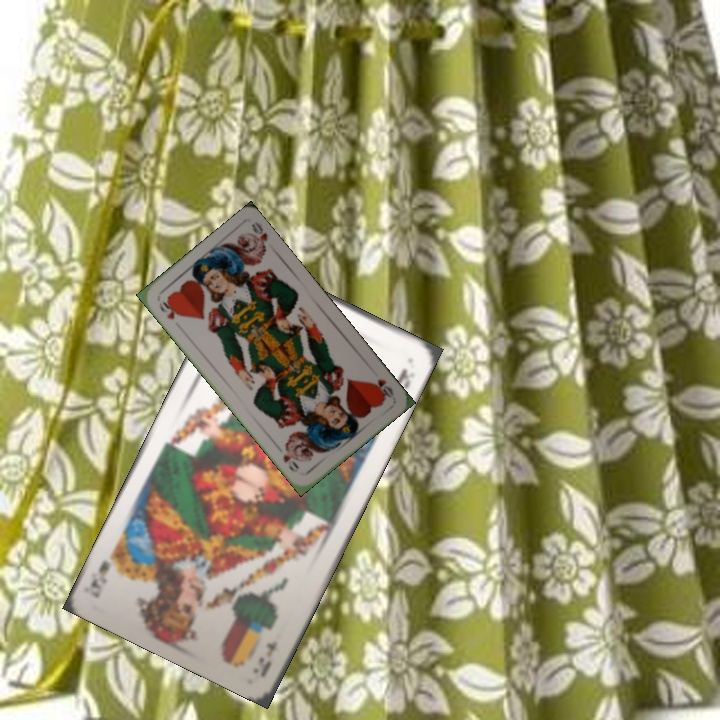EK: (254, 636, 280, 678)
HO: (368, 375, 397, 401), (155, 296, 183, 322)
